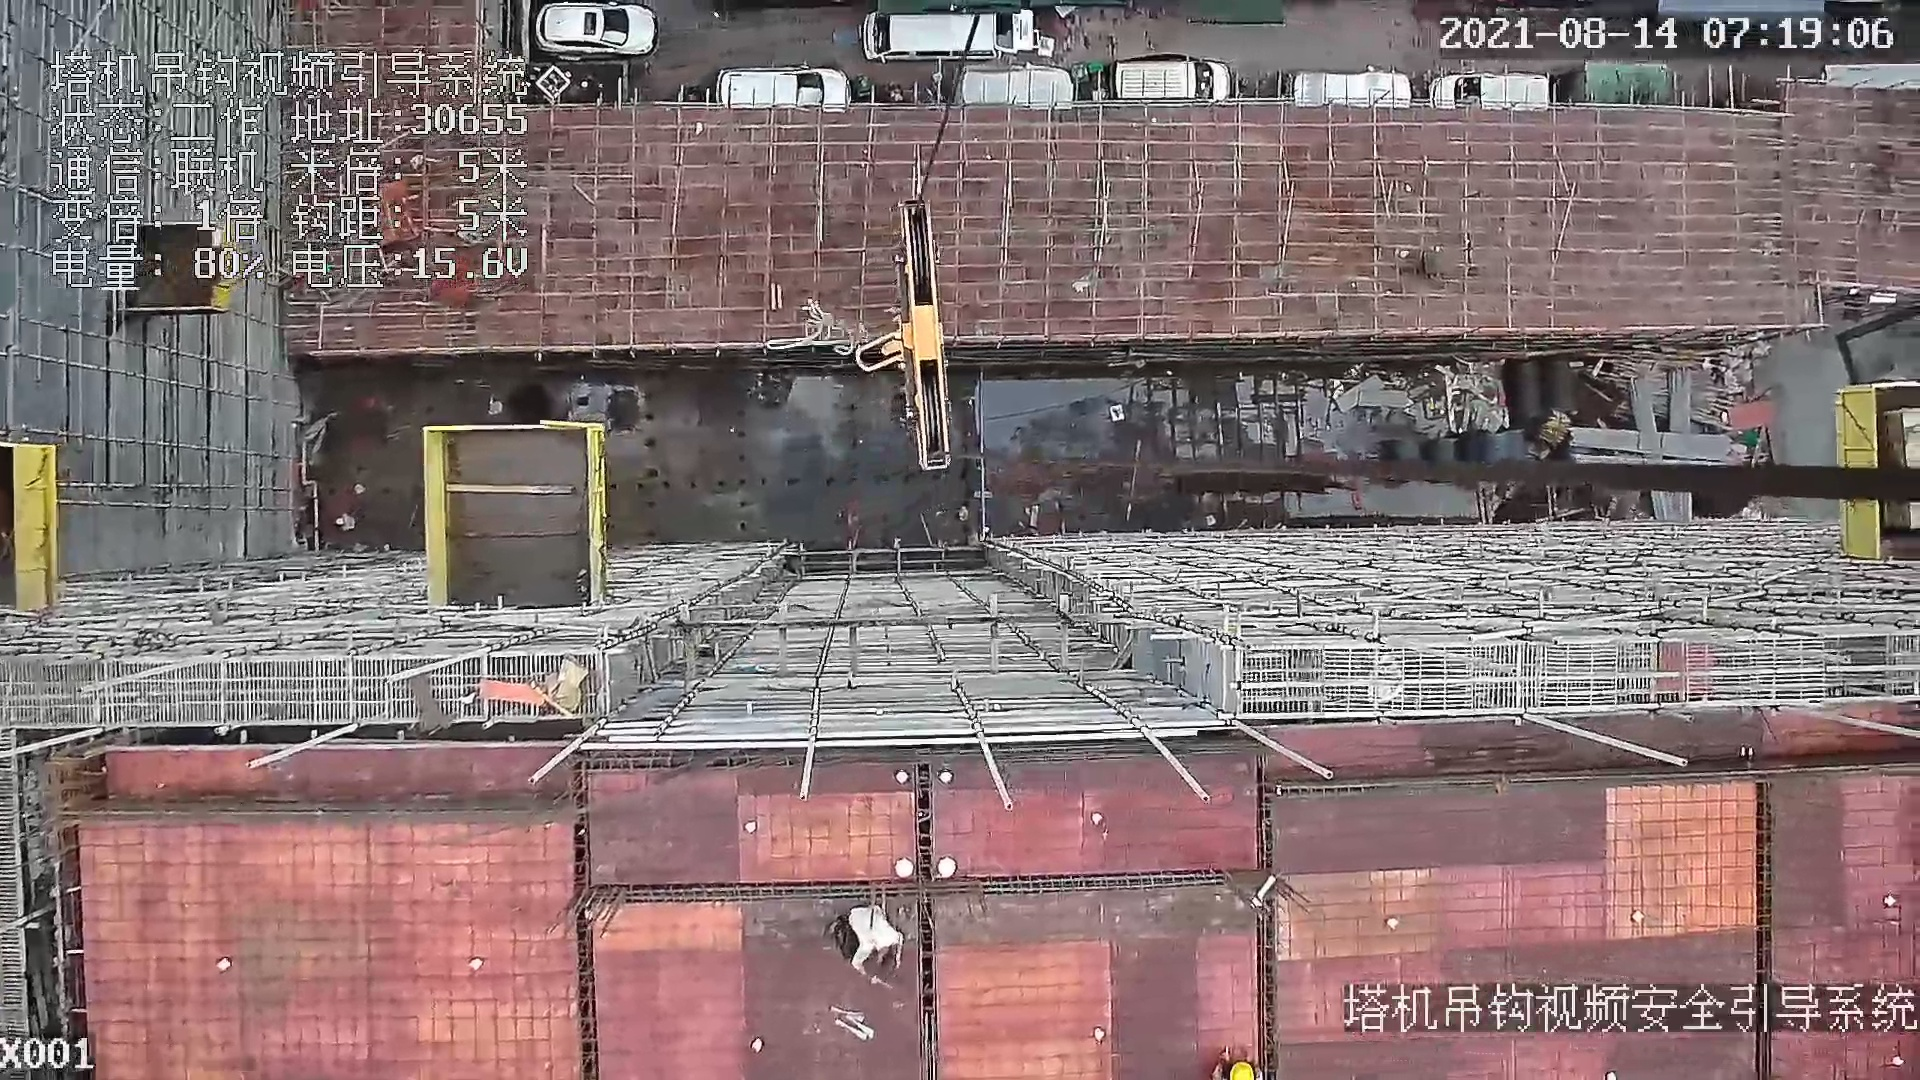helmet: (1229, 1060, 1253, 1080)
hook: (854, 192, 963, 476)
person: (849, 910, 906, 990)
